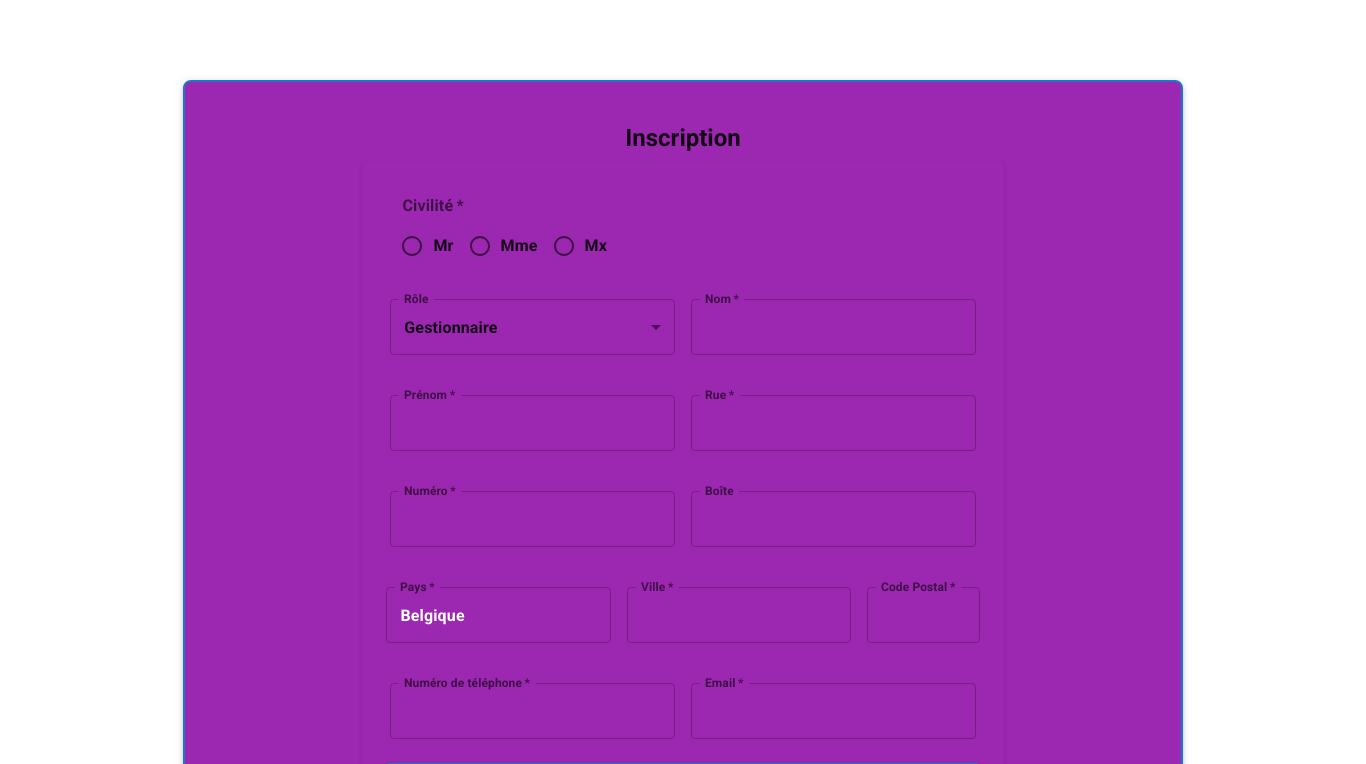
AccountCreationPage › displays companyName only when role is PRODUCER
This screenshot has width=1366, height=764.
Expected: the field labelled "Nom de l’entreprise" is not shown
Select "Producteur" in the dropdown labelled "Rôle" at (533, 327), box top-left (390, 299), bottom-right (675, 355)
(page scrolled)
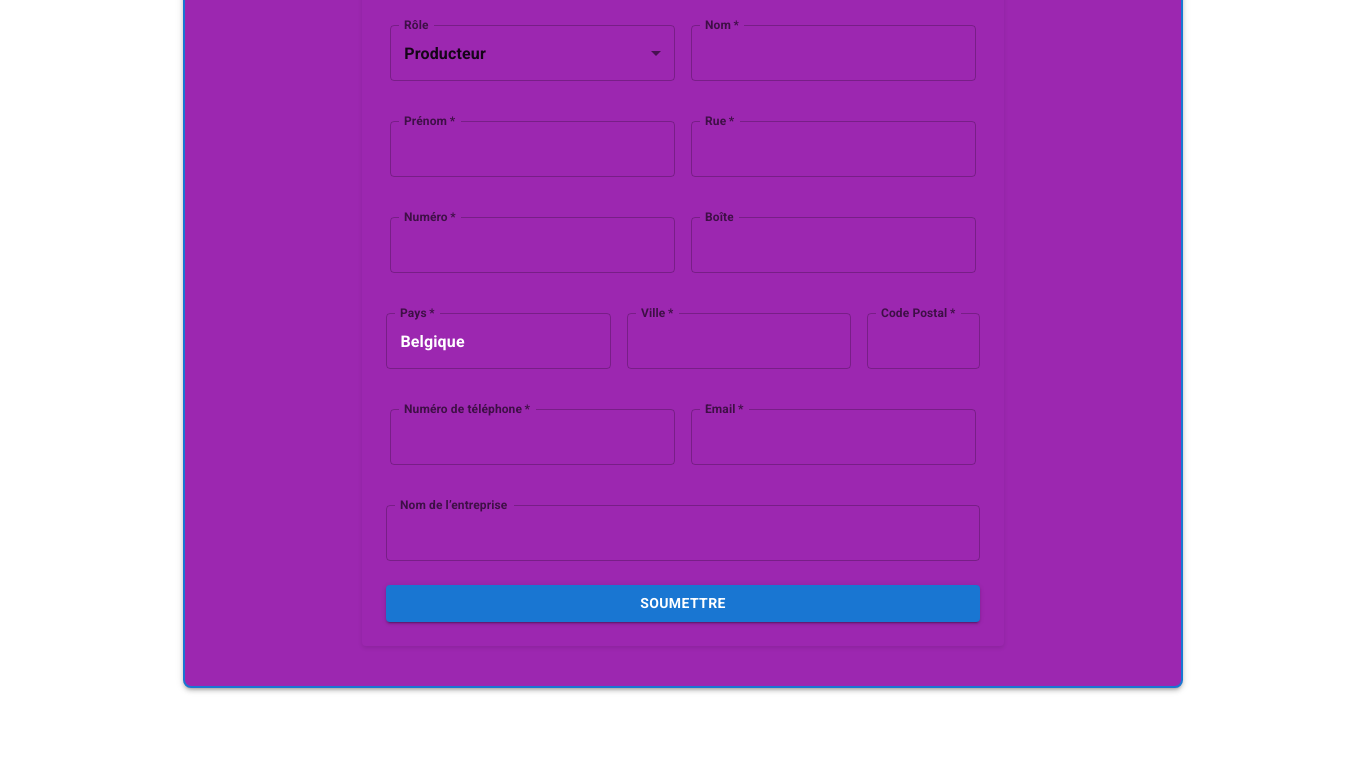
Result: the field labelled "Nom de l’entreprise" is shown at top-left (386, 505), bottom-right (980, 561)
